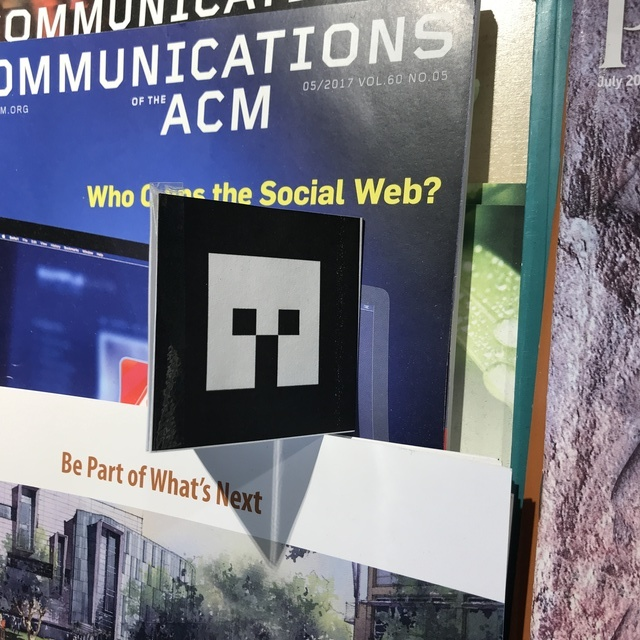ARTag: (148, 193, 363, 455)
